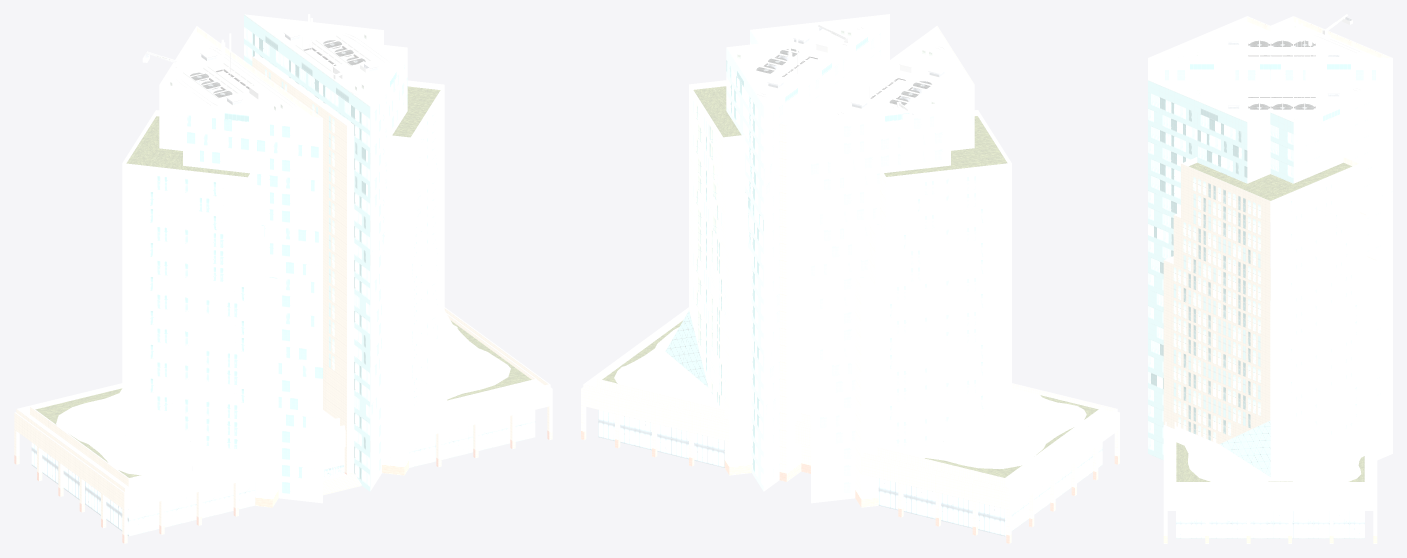
File: NCCItowers.FBX
3 views of the same model, side by side, from view 1: azimuth 30°, elevation 25°; view 2: azimuth 150°, elevation 25°; view 3: azimuth 270°, elevation 25° (orthographic). The views are drawn at different scales.
Parts seen in each view (by area): view 1: NCCItowers; view 2: NCCItowers; view 3: NCCItowers.
Boxes of the visible parts, x1,y1,x2,y2 form: NCCItowers: (14, 14, 552, 543); NCCItowers: (581, 14, 1119, 543); NCCItowers: (1148, 14, 1392, 543).
Size of the model in its own units: 11752 by 10945 by 6000.
Materials: 1 (1 with a texture image).
